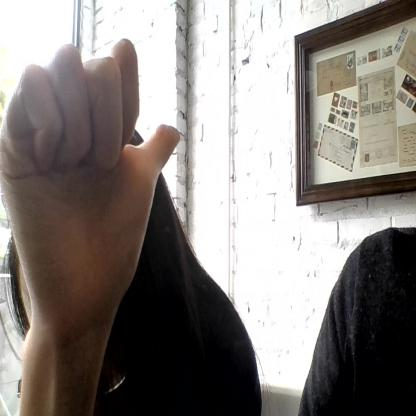left: (1, 39, 181, 311)
